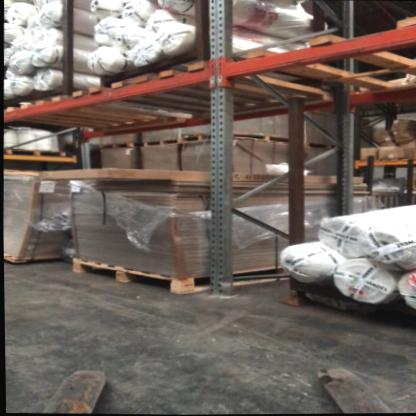vertical_damage: (201, 258, 241, 300)
